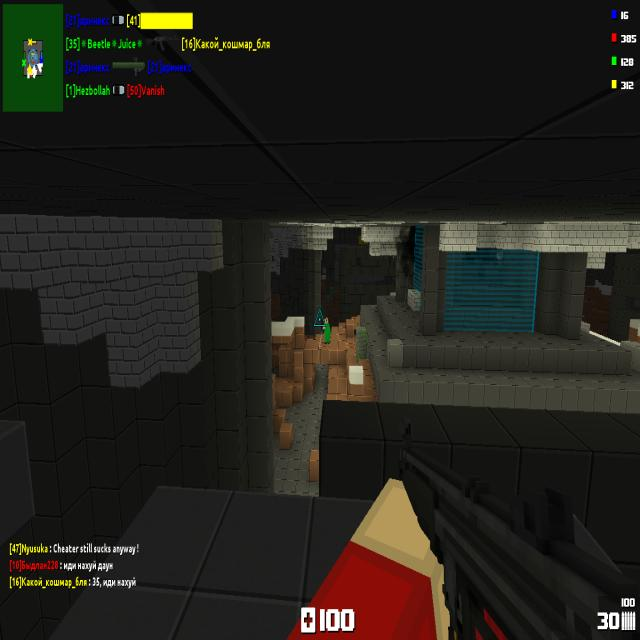enemy: (322, 316, 331, 343)
